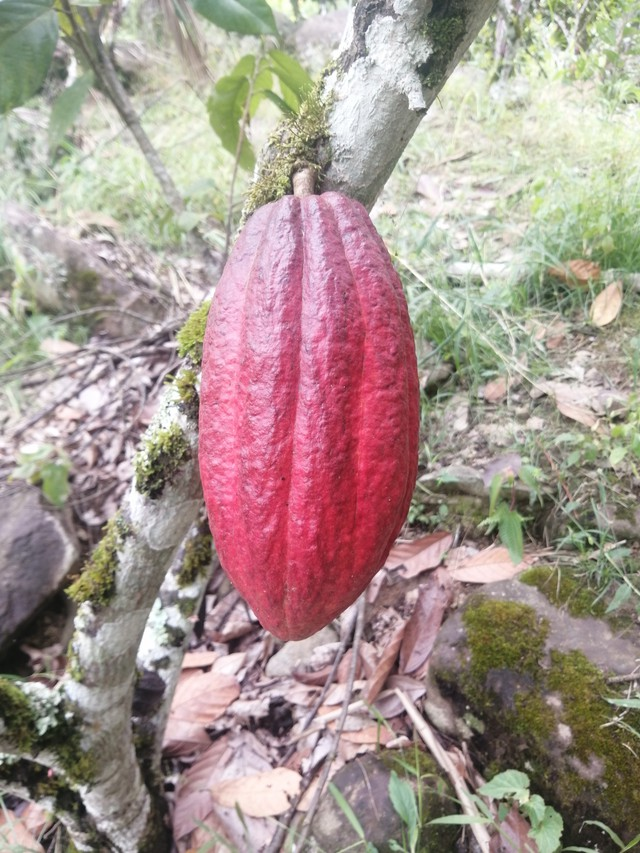Health: (189, 184, 431, 649)
